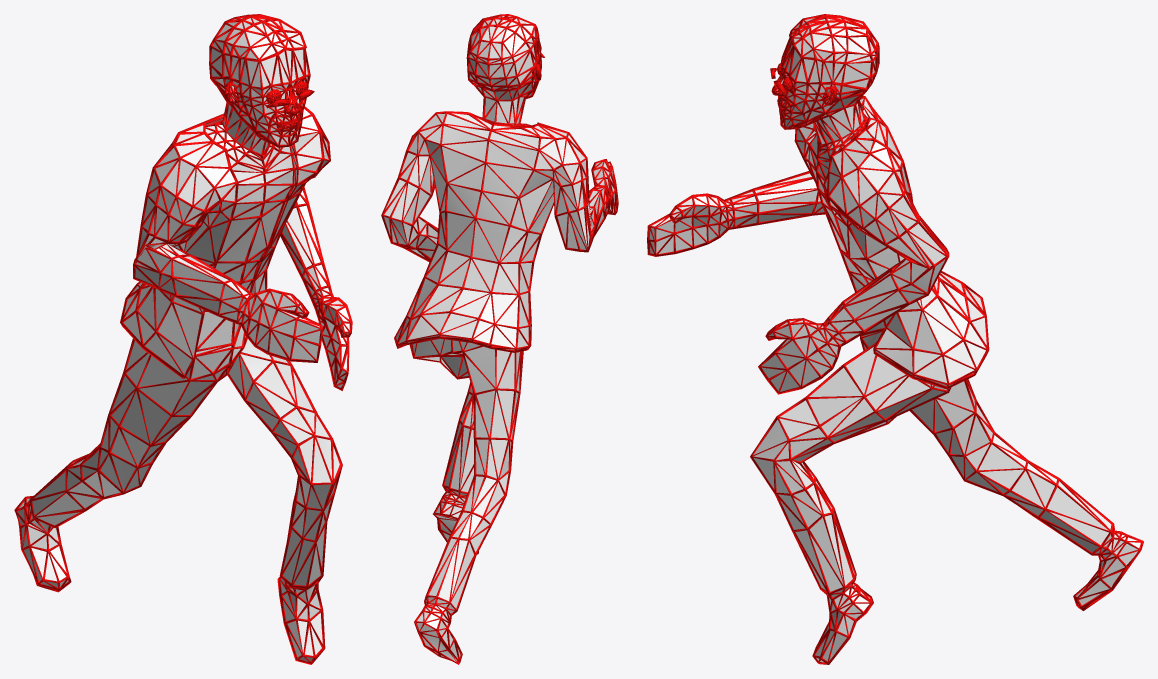
The model's file is elegantRun_000014.obj.
The picture shows the model from 3 angles, left to right: view 1: azimuth 30°, elevation 25°; view 2: azimuth 150°, elevation 25°; view 3: azimuth 270°, elevation 25°; orthographic projection. The views are drawn at different scales.
Parts seen in each view (by area): view 1: BaseHuman_Cylinder.002; view 2: BaseHuman_Cylinder.002; view 3: BaseHuman_Cylinder.002.
Part boxes in pixels (x1=…): BaseHuman_Cylinder.002: x1=14, y1=14, x2=352, y2=664; BaseHuman_Cylinder.002: x1=381, y1=14, x2=618, y2=664; BaseHuman_Cylinder.002: x1=647, y1=14, x2=1143, y2=664.
Bounding box in the file's own units: 1.49 × 4.56 × 3.3.
